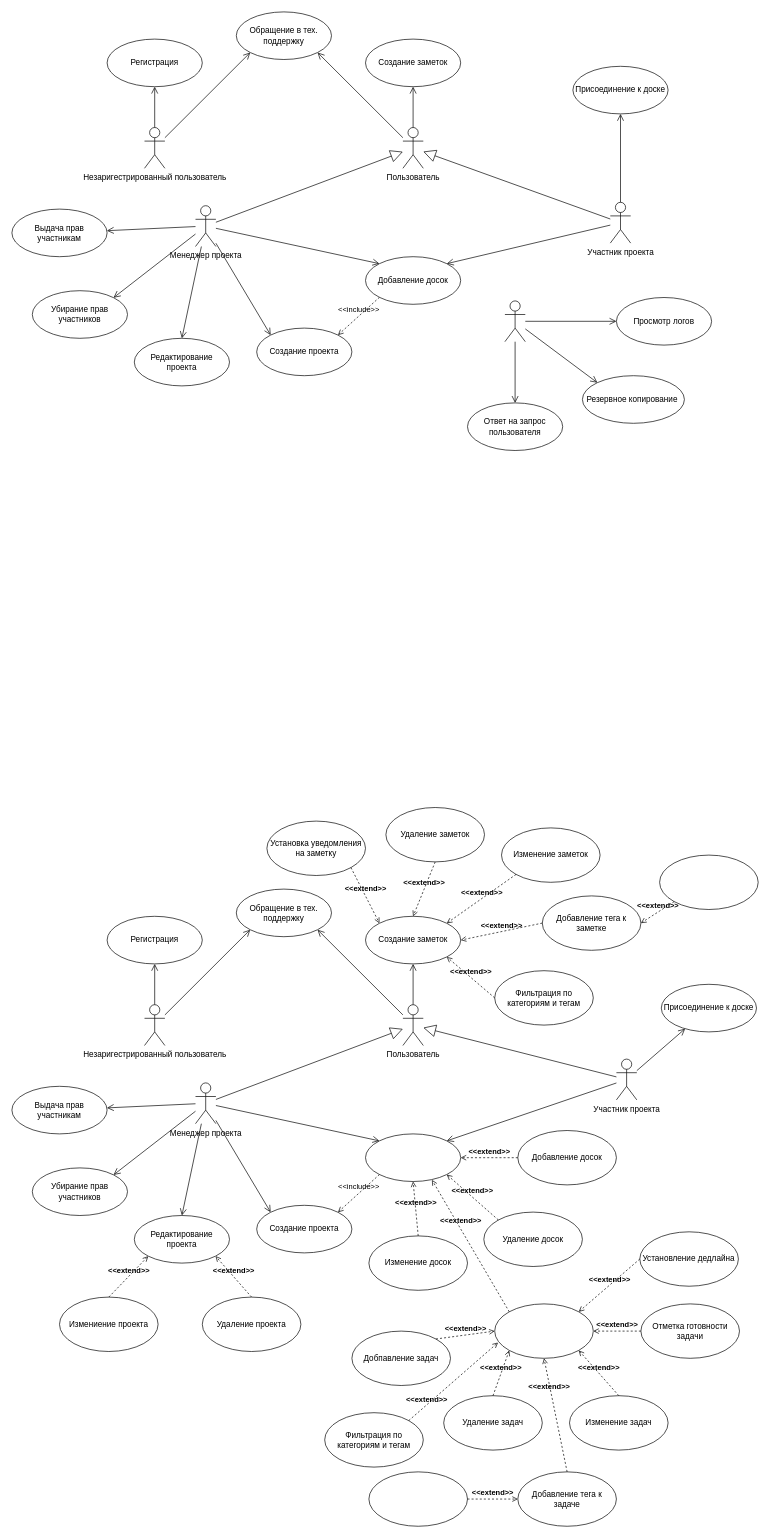
Some shapes in this 770 by 1538 pixel diagram are drawn without their labels. The box of each missing label's shape, as (x1, y1, x2, y2) in pixels:
Поиск задачи по тегу: (368, 1471, 468, 1526)
Поиск заметки по тегу: (659, 854, 758, 910)
Редактирование досок: (365, 1133, 461, 1182)
Редактирование задач: (494, 1303, 593, 1358)
Тех. поддержка: (504, 300, 525, 342)
